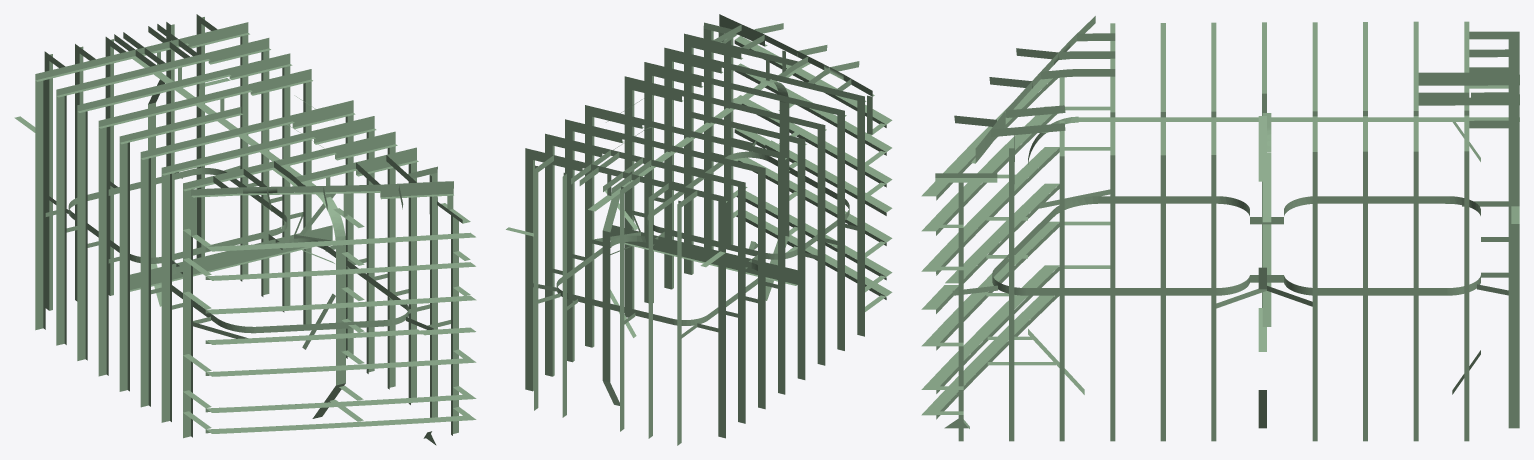
File: DIST_WATER_STOR_TK_SB.glb
3 views of the same model, side by side, from view 1: azimuth 30°, elevation 25°; view 2: azimuth 150°, elevation 25°; view 3: azimuth 270°, elevation 25° (orthographic). The views are drawn at different scales.
Visible parts, largest first — view 1: ST_SideTransxFR6SxWeb_008001-IA_200x90x9x14_NVA_1993, FP_SideTransxFR10S_012001-T_250x19.5_NVA_1993, ST_SideTransxFR6SxWeb_009001-IA_200x90x9x14_NVA_1993, ST_UDxAPTSxDL30xWeb_055005-IA_150x90x12x12_NVA_1993, ST_HG59xAPTSxWeb_004001-TW_350x11+150x16_NVA_1993, ST_OuterShellxAPTSxL60A2xWeb_001005-IA_265x90x10x15_NVA32_19, ST_OuterShellxAPTSxL58xWeb_001005-IA_265x90x10x15_NVA32_1993, ST_SideTransxFR6SxWeb_002001-IA_200x90x9x14_NVA_1993, ST_OuterShellxAPTSxL60A1xWeb_001005-IA_265x90x10x15_NVA32_19, ST_OuterShellxAPTSxL60xWeb_001005-IA_265x90x10x15_NVA32_1993, ST_SideTransxFR6SxWeb_003001-IA_200x90x9x14_NVA_1993, ST_SideTransxFR6SxWeb_004001-IA_200x90x9x14_NVA_1993 (+61 smaller); view 2: ST_SideTransxFR6SxWeb_008001-IA_200x90x9x14_NVA_1993, ST_SideTransxFR6SxWeb_009001-IA_200x90x9x14_NVA_1993, ST_HG59xAPTSxWeb_004001-TW_350x11+150x16_NVA_1993, FP_SideTransxFR10S_010001-T_200x12_NVA_1993, ST_SideTransxFR6SxWeb_006001-IA_200x90x9x14_NVA_1993, ST_SideTransxFR6SxWeb_007001-IA_200x90x9x14_NVA_1993, ST_No8LBHDxAPTSxWeb_012001-IA_200x90x9x14_NVA_1993, ST_SideTransxFR6SxWeb_003001-IA_200x90x9x14_NVA_1993, ST_SideTransxFR6SxWeb_004001-IA_200x90x9x14_NVA_1993, ST_SideTransxFR6SxWeb_005001-IA_200x90x9x14_NVA_1993, FP_SideTransxFR10S_012001-T_250x19.5_NVA_1993, ST_SideTransxFR6SxWeb_002001-IA_200x90x9x14_NVA_1993 (+64 smaller); view 3: ST_No8LBHDxAPTSxWeb_012001-IA_200x90x9x14_NVA_1993, FP_SideTransxFR10S_008001-T_125x10_NVA_1993, ST_OuterShellxAPTSxL59xWeb_001005-IA_265x90x10x15_NVA32_1993, ST_OuterShellxAPTSxL60xWeb_001005-IA_265x90x10x15_NVA32_1993, ST_OuterShellxAPTSxL57xWeb_001005-IA_265x90x10x15_NVA32_1993, ST_OuterShellxAPTSxL56xWeb_001005-IA_265x90x10x15_NVA32_1993, ST_OuterShellxAPTSxL60A1xWeb_001005-IA_265x90x10x15_NVA32_19, ST_OuterShellxAPTSxL58xWeb_001005-IA_265x90x10x15_NVA32_1993, FP_HG59xAPTS_017001-T_150x19_NVA_1993, ST_SideTransBHDxBHD13SxFLG_012001-IA_200x90x9x14_NVA_1993, ST_SideTransBHDxBHD13SxFLG_030001-IA_200x90x9x14_NVA_1993, ST_SideTransBHDxBHD13SxFLG_027001-IA_200x90x9x14_NVA_1993 (+24 smaller).
Part boxes in pixels (box(x1,y1,x2,y2)): ST_SideTransxFR6SxWeb_008001-IA_200x90x9x14_NVA_1993: box(161, 174, 169, 365); FP_SideTransxFR10S_012001-T_250x19.5_NVA_1993: box(316, 194, 345, 378); ST_SideTransxFR6SxWeb_009001-IA_200x90x9x14_NVA_1993: box(183, 190, 190, 380); ST_UDxAPTSxDL30xWeb_055005-IA_150x90x12x12_NVA_1993: box(191, 184, 380, 195); ST_HG59xAPTSxWeb_004001-TW_350x11+150x16_NVA_1993: box(130, 235, 289, 289); ST_OuterShellxAPTSxL60A2xWeb_001005-IA_265x90x10x15_NVA32_19: box(206, 236, 423, 251); ST_OuterShellxAPTSxL58xWeb_001005-IA_265x90x10x15_NVA32_1993: box(206, 361, 423, 376); ST_SideTransxFR6SxWeb_002001-IA_200x90x9x14_NVA_1993: box(35, 80, 43, 215); ST_OuterShellxAPTSxL60A1xWeb_001005-IA_265x90x10x15_NVA32_19: box(206, 265, 423, 280); ST_OuterShellxAPTSxL60xWeb_001005-IA_265x90x10x15_NVA32_1993: box(206, 299, 423, 314); ST_SideTransxFR6SxWeb_003001-IA_200x90x9x14_NVA_1993: box(56, 96, 64, 230); ST_SideTransxFR6SxWeb_004001-IA_200x90x9x14_NVA_1993: box(77, 111, 85, 246); ST_SideTransxFR6SxWeb_008001-IA_200x90x9x14_NVA_1993: box(837, 115, 844, 296); ST_SideTransxFR6SxWeb_009001-IA_200x90x9x14_NVA_1993: box(857, 100, 864, 282); ST_HG59xAPTSxWeb_004001-TW_350x11+150x16_NVA_1993: box(644, 233, 797, 284); FP_SideTransxFR10S_010001-T_200x12_NVA_1993: box(602, 230, 610, 360); ST_SideTransxFR6SxWeb_006001-IA_200x90x9x14_NVA_1993: box(797, 144, 805, 271); ST_SideTransxFR6SxWeb_007001-IA_200x90x9x14_NVA_1993: box(817, 129, 825, 257); ST_No8LBHDxAPTSxWeb_012001-IA_200x90x9x14_NVA_1993: box(534, 166, 538, 383); ST_SideTransxFR6SxWeb_003001-IA_200x90x9x14_NVA_1993: box(738, 187, 745, 315); ST_SideTransxFR6SxWeb_004001-IA_200x90x9x14_NVA_1993: box(758, 172, 765, 300); ST_SideTransxFR6SxWeb_005001-IA_200x90x9x14_NVA_1993: box(778, 158, 785, 286); FP_SideTransxFR10S_012001-T_250x19.5_NVA_1993: box(760, 80, 789, 230); ST_SideTransxFR6SxWeb_002001-IA_200x90x9x14_NVA_1993: box(718, 201, 725, 329); ST_No8LBHDxAPTSxWeb_012001-IA_200x90x9x14_NVA_1993: box(1508, 120, 1519, 393); FP_SideTransxFR10S_008001-T_125x10_NVA_1993: box(1078, 117, 1519, 121); ST_OuterShellxAPTSxL59xWeb_001005-IA_265x90x10x15_NVA32_1993: box(945, 183, 1059, 283); ST_OuterShellxAPTSxL60xWeb_001005-IA_265x90x10x15_NVA32_1993: box(945, 147, 1059, 246); ST_OuterShellxAPTSxL57xWeb_001005-IA_265x90x10x15_NVA32_1993: box(945, 265, 1059, 364); ST_OuterShellxAPTSxL56xWeb_001005-IA_265x90x10x15_NVA32_1993: box(945, 295, 1054, 390); ST_OuterShellxAPTSxL60A1xWeb_001005-IA_265x90x10x15_NVA32_19: box(945, 106, 1051, 206); ST_OuterShellxAPTSxL58xWeb_001005-IA_265x90x10x15_NVA32_1993: box(945, 221, 1059, 321); FP_HG59xAPTS_017001-T_150x19_NVA_1993: box(1317, 288, 1447, 295); ST_SideTransBHDxBHD13SxFLG_012001-IA_200x90x9x14_NVA_1993: box(1009, 148, 1014, 303); ST_SideTransBHDxBHD13SxFLG_030001-IA_200x90x9x14_NVA_1993: box(1464, 151, 1469, 303); ST_SideTransBHDxBHD13SxFLG_027001-IA_200x90x9x14_NVA_1993: box(1413, 151, 1418, 303).
Size of the model in its own units: 5.25 by 6.04 by 10.66.
